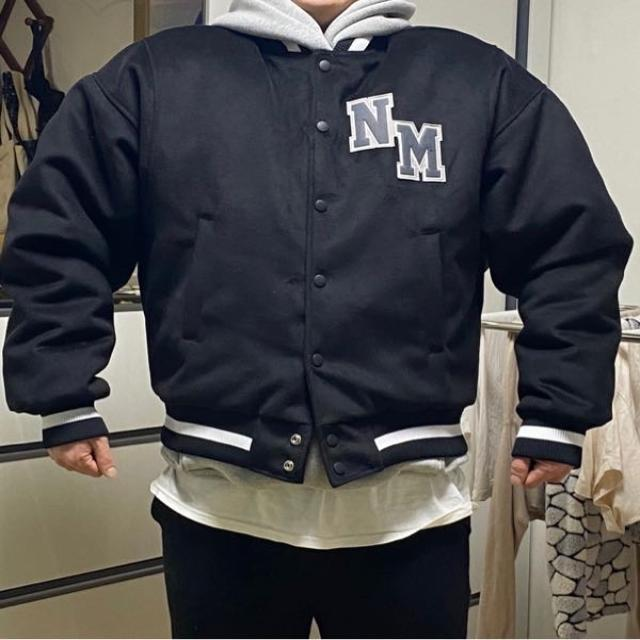cottonpants: (153, 493, 470, 640)
jacket: (4, 7, 624, 500)
